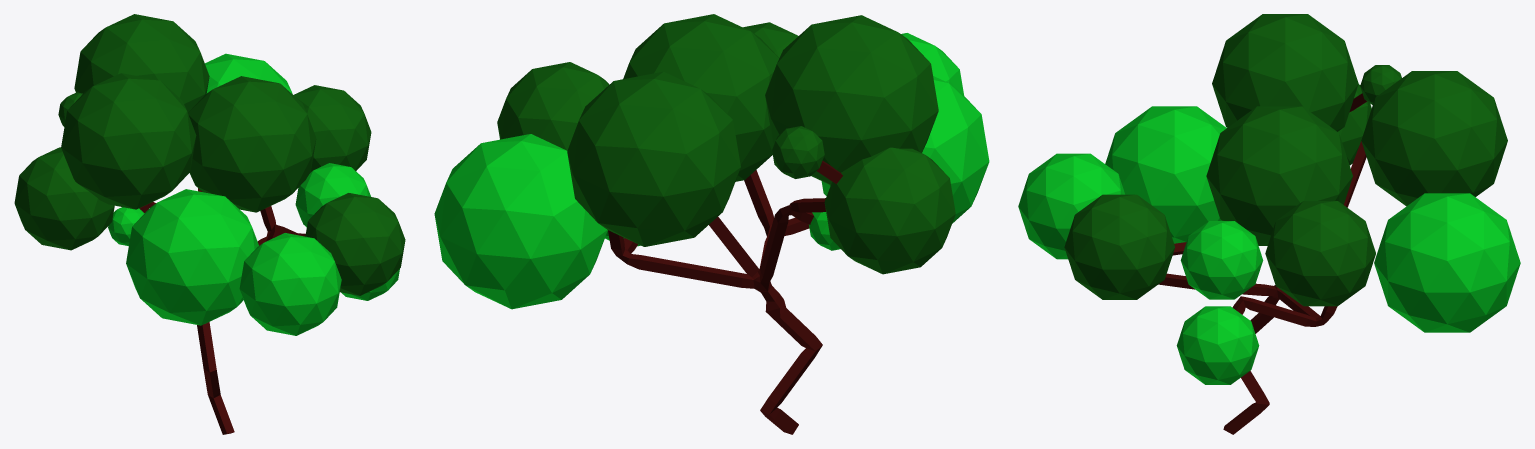
Rendered from Arbol1.glb.
3 renders of one model, left to right at view 1: azimuth 30°, elevation 25°; view 2: azimuth 150°, elevation 25°; view 3: azimuth 270°, elevation 25°, orthographic. The views are drawn at different scales.
Visible parts, largest first — view 1: Icosphere.009, Icosphere.010, Icosphere.007, Icosphere.004, Icosphere, Icosphere.005, Icosphere.001, Icosphere.003, Icosphere.012, Cube, Icosphere.011, Icosphere.008 (+1 smaller); view 2: Icosphere, Icosphere.011, Icosphere.009, Icosphere.001, Icosphere.007, Cube, Icosphere.003, Icosphere.010, Icosphere.002, Icosphere.004, Icosphere.005, Icosphere.008; view 3: Icosphere.011, Icosphere, Icosphere.007, Icosphere.009, Icosphere.010, Icosphere.003, Icosphere.005, Icosphere.004, Icosphere.012, Icosphere.006, Cube, Icosphere.001 (+1 smaller).
Boxes of the visible parts, left/top/right/bottom form: Icosphere.009: left=61, top=73, right=196, bottom=209; Icosphere.010: left=126, top=189, right=258, bottom=325; Icosphere.007: left=188, top=76, right=316, bottom=212; Icosphere.004: left=239, top=233, right=341, bottom=335; Icosphere: left=74, top=14, right=209, bottom=112; Icosphere.005: left=305, top=193, right=405, bottom=295; Icosphere.001: left=14, top=147, right=114, bottom=250; Icosphere.003: left=293, top=85, right=371, bottom=171; Icosphere.012: left=295, top=163, right=370, bottom=227; Cube: left=139, top=188, right=305, bottom=434; Icosphere.011: left=205, top=53, right=292, bottom=94; Icosphere.008: left=108, top=207, right=144, bottom=245; Icosphere: left=567, top=71, right=740, bottom=246; Icosphere.011: left=434, top=134, right=607, bottom=309; Icosphere.009: left=765, top=15, right=938, bottom=185; Icosphere.001: left=824, top=147, right=955, bottom=274; Icosphere.007: left=623, top=14, right=779, bottom=181; Cube: left=608, top=161, right=842, bottom=434; Icosphere.003: left=497, top=62, right=609, bottom=150; Icosphere.010: left=821, top=76, right=989, bottom=223; Icosphere.002: left=772, top=126, right=824, bottom=178; Icosphere.004: left=901, top=33, right=963, bottom=94; Icosphere.005: left=743, top=22, right=798, bottom=57; Icosphere.008: left=809, top=212, right=840, bottom=250; Icosphere.011: left=1374, top=193, right=1520, bottom=332; Icosphere: left=1361, top=71, right=1507, bottom=206; Icosphere.007: left=1206, top=106, right=1352, bottom=245; Icosphere.009: left=1212, top=14, right=1358, bottom=131; Icosphere.010: left=1105, top=106, right=1226, bottom=243; Icosphere.003: left=1265, top=201, right=1375, bottom=306; Icosphere.005: left=1064, top=194, right=1175, bottom=299; Icosphere.004: left=1018, top=153, right=1124, bottom=259; Icosphere.012: left=1180, top=221, right=1263, bottom=299; Icosphere.006: left=1176, top=306, right=1259, bottom=384; Cube: left=1158, top=93, right=1366, bottom=434; Icosphere.001: left=1338, top=84, right=1371, bottom=165.
Bounding box in the file's own units: 23.16 × 23.1 × 27.87.
